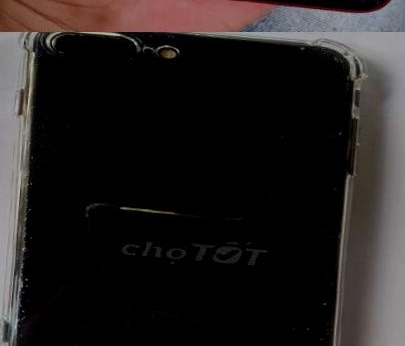scratch: (257, 37, 362, 346), (0, 111, 82, 346), (22, 32, 212, 75), (173, 98, 253, 144), (359, 0, 390, 8)
